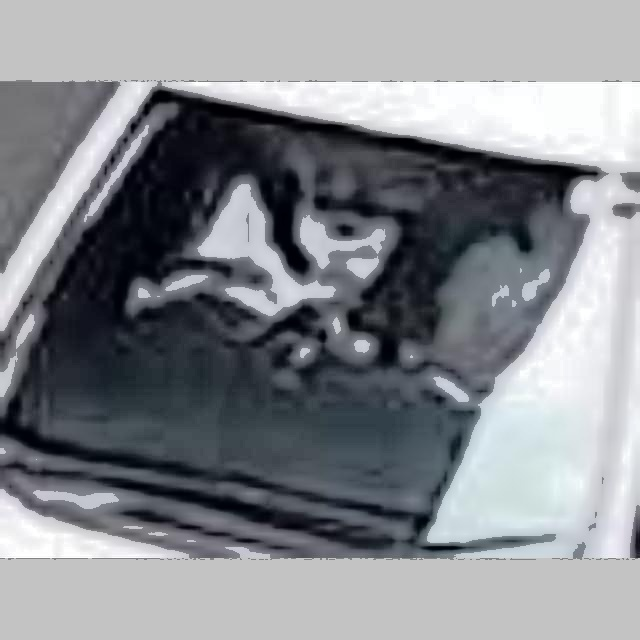pakai: (191, 150, 374, 348)
